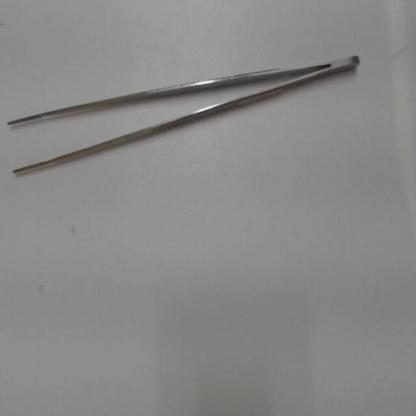DeBakey Dissector: (4, 37, 371, 198)
